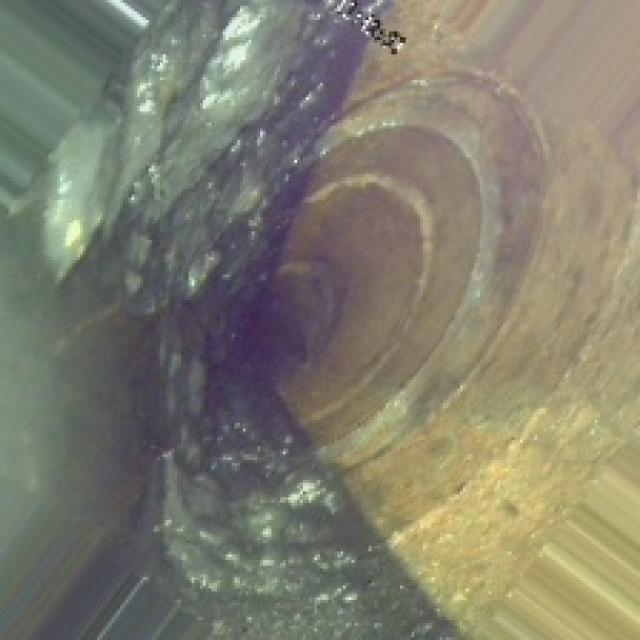sluge accumulation: (80, 14, 323, 623)
